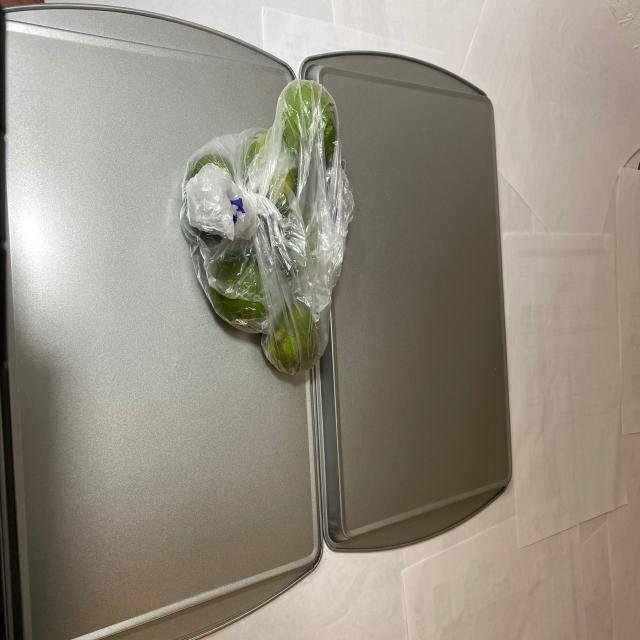lemon: (184, 84, 335, 376)
